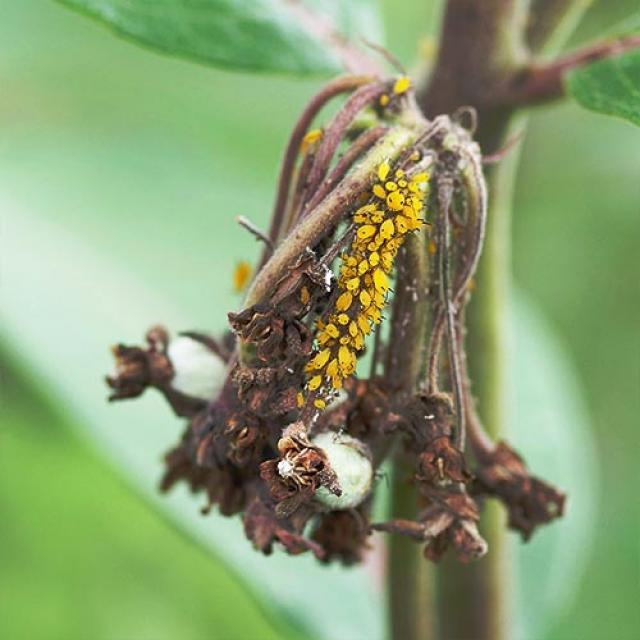Aphid-Grouped-: (293, 160, 437, 426)
